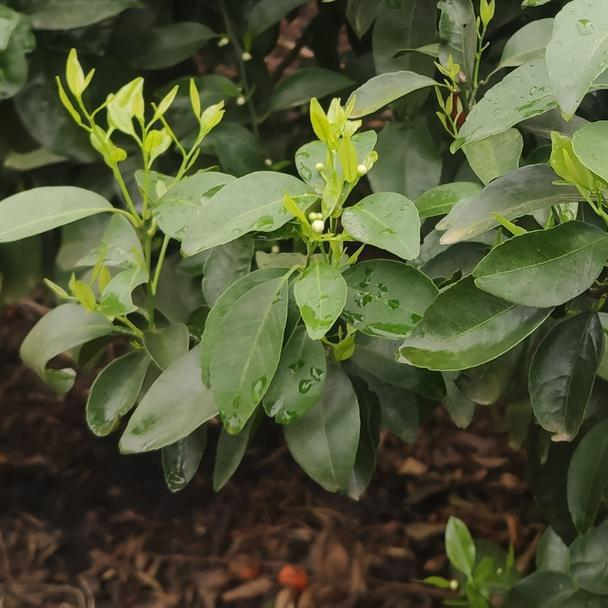shoot: (59, 58, 133, 204), (155, 85, 229, 213), (118, 91, 181, 211), (310, 97, 370, 208)
